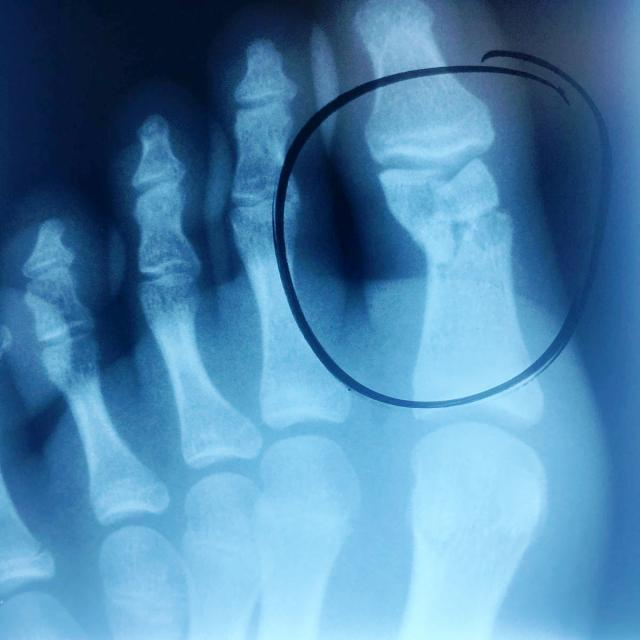Intra-articular fracture: (379, 141, 518, 259)
